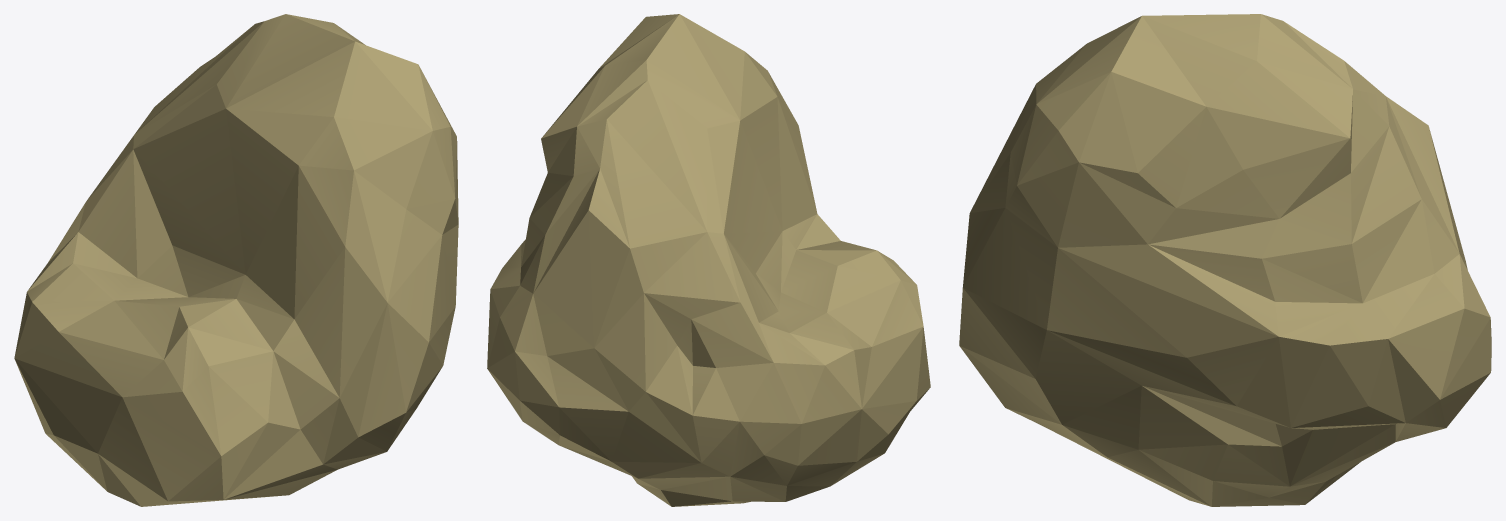
File: SM_rock_38.fbx
The picture shows the model from 3 angles, left to right: view 1: azimuth 30°, elevation 25°; view 2: azimuth 150°, elevation 25°; view 3: azimuth 270°, elevation 25°; orthographic projection. The views are drawn at different scales.
Visible parts, largest first — view 1: rock_38; view 2: rock_38; view 3: rock_38.
Boxes of the visible parts, x1,y1,x2,y2 form: rock_38: [14, 14, 458, 506]; rock_38: [487, 14, 930, 506]; rock_38: [959, 14, 1491, 506].
Size of the model in its own units: 156 by 183 by 167.
